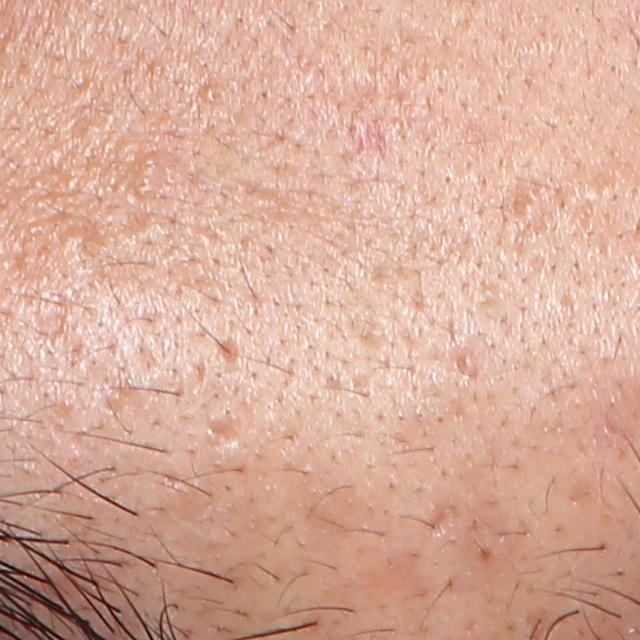atrophic_scar: (204, 412, 242, 447), (427, 502, 456, 540), (216, 335, 247, 367)
comedo: (516, 194, 538, 219), (199, 85, 225, 105), (135, 175, 159, 196)
